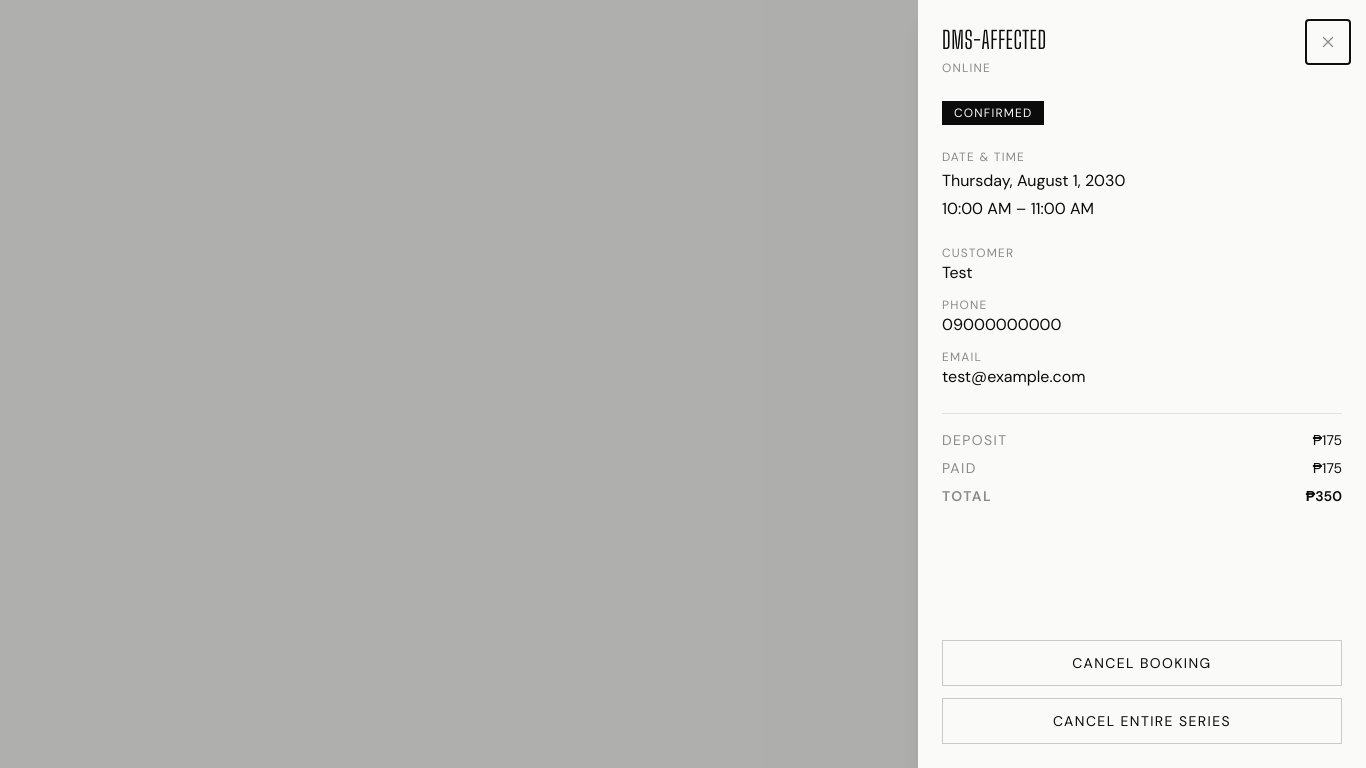
shows delivery warnings together with a partial series cancellation failure
Click the button "Cancel Entire Series".
click(1142, 721)  # box [942,698,1342,744]
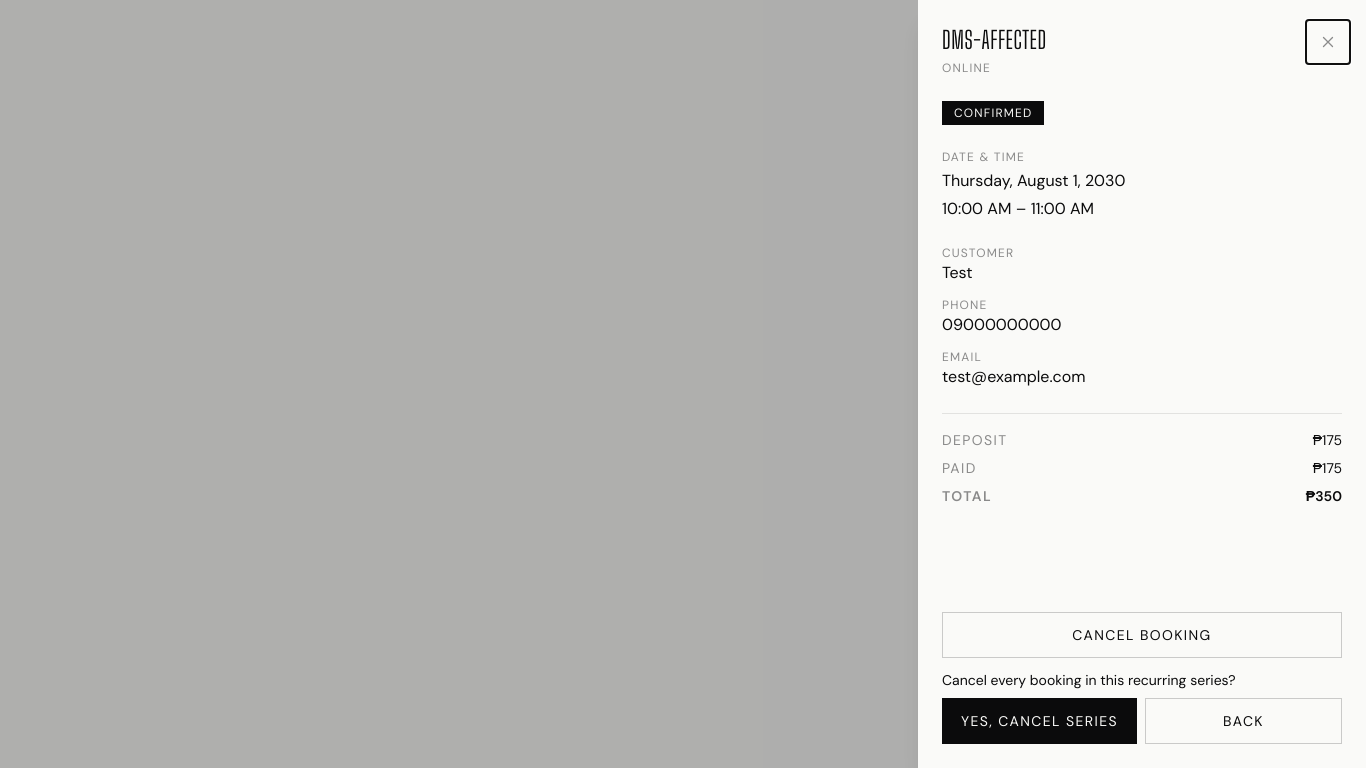
Click the button "Yes, cancel series".
click(1040, 721)  # box [942,698,1137,744]
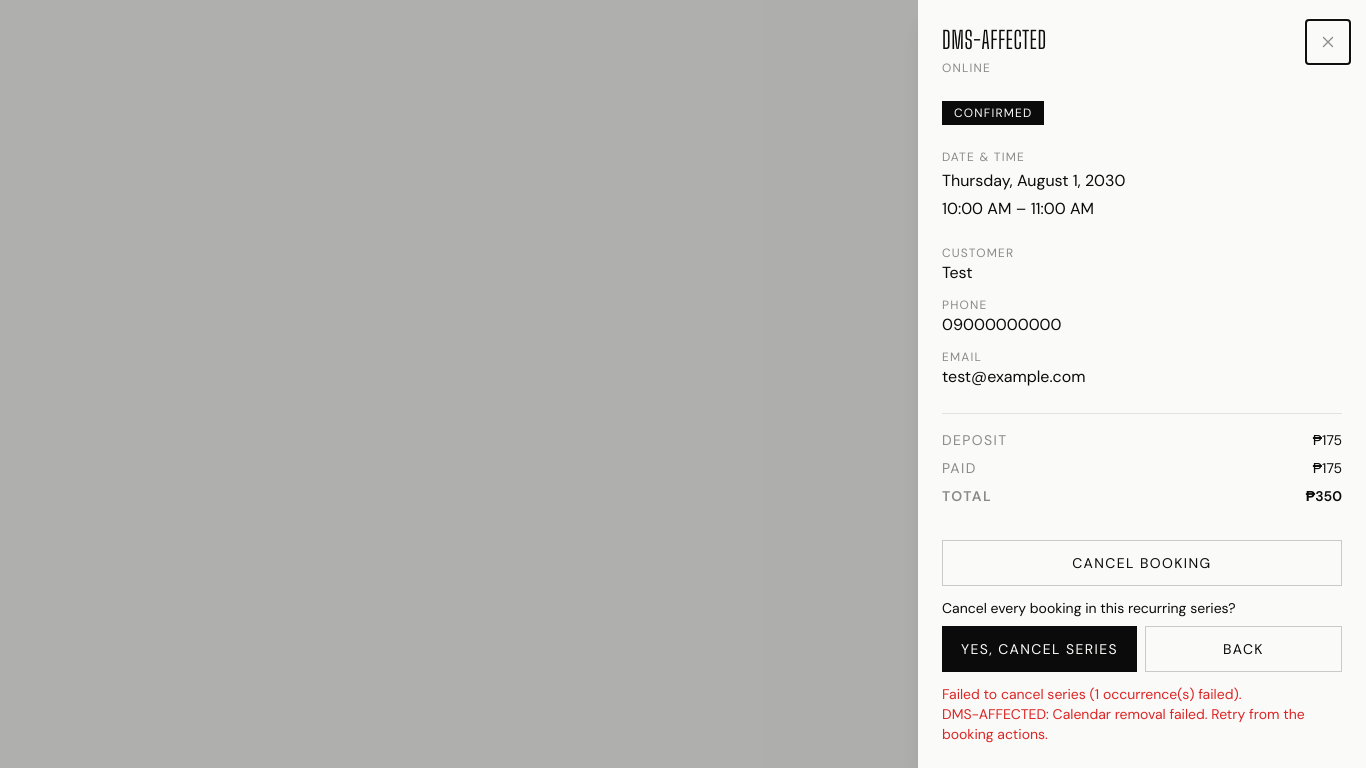
Expected: the message shows "1 occurrence(s) failed", [942,685,1305,743]
Expected: the message shows "DMS-AFFECTED: Calendar removal failed. Retry from the booking actions.", [942,685,1305,743]
